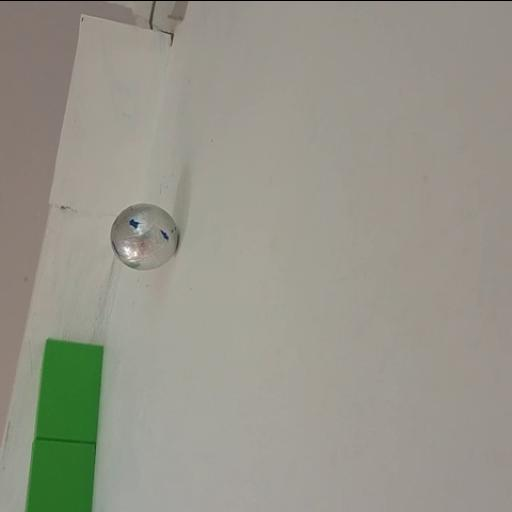alive: (108, 200, 180, 272)
